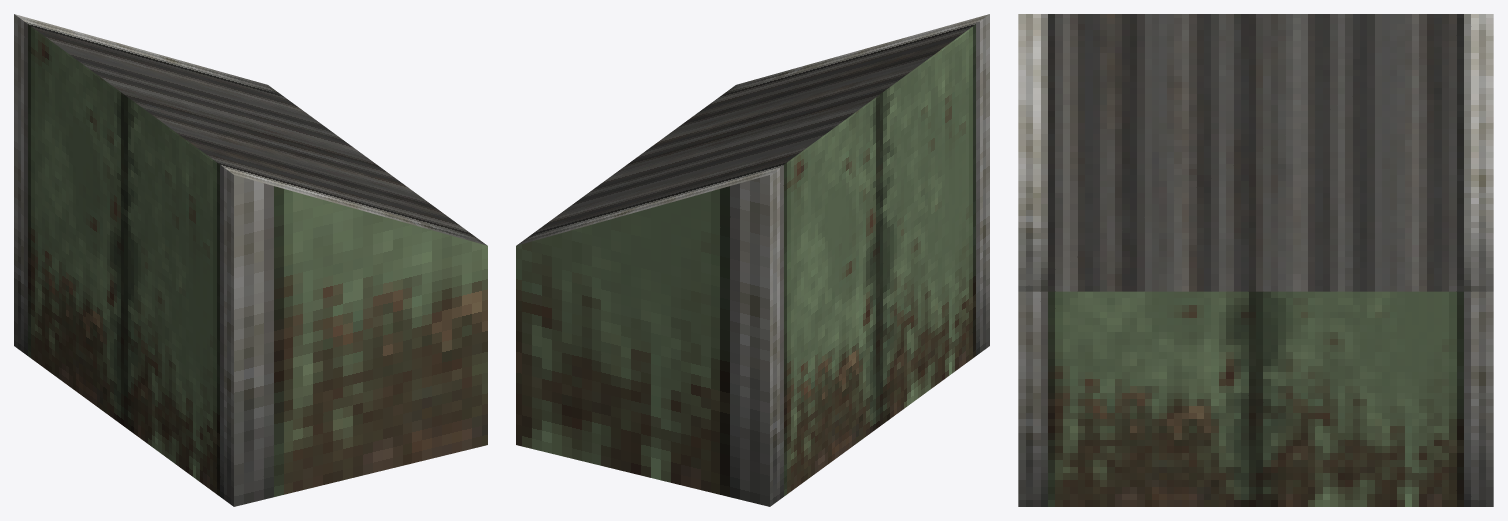
File: dumpster.glb
3 renders of one model, left to right at view 1: azimuth 30°, elevation 25°; view 2: azimuth 150°, elevation 25°; view 3: azimuth 270°, elevation 25°, orthographic. The views are drawn at different scales.
Parts seen in each view (by area): view 1: mesh_id5, mesh_id7; view 2: mesh_id5, mesh_id7; view 3: mesh_id7, mesh_id5.
Part boxes in pixels (<box>): mesh_id5: <box>14,14,487,506</box>; mesh_id7: <box>15,14,486,245</box>; mesh_id5: <box>516,14,989,506</box>; mesh_id7: <box>517,14,988,245</box>; mesh_id7: <box>1018,14,1493,291</box>; mesh_id5: <box>1018,291,1493,506</box>.
Size of the model in its own units: 0.4096 by 0.512 by 0.6144.
Materials: 3 (3 with a texture image).
